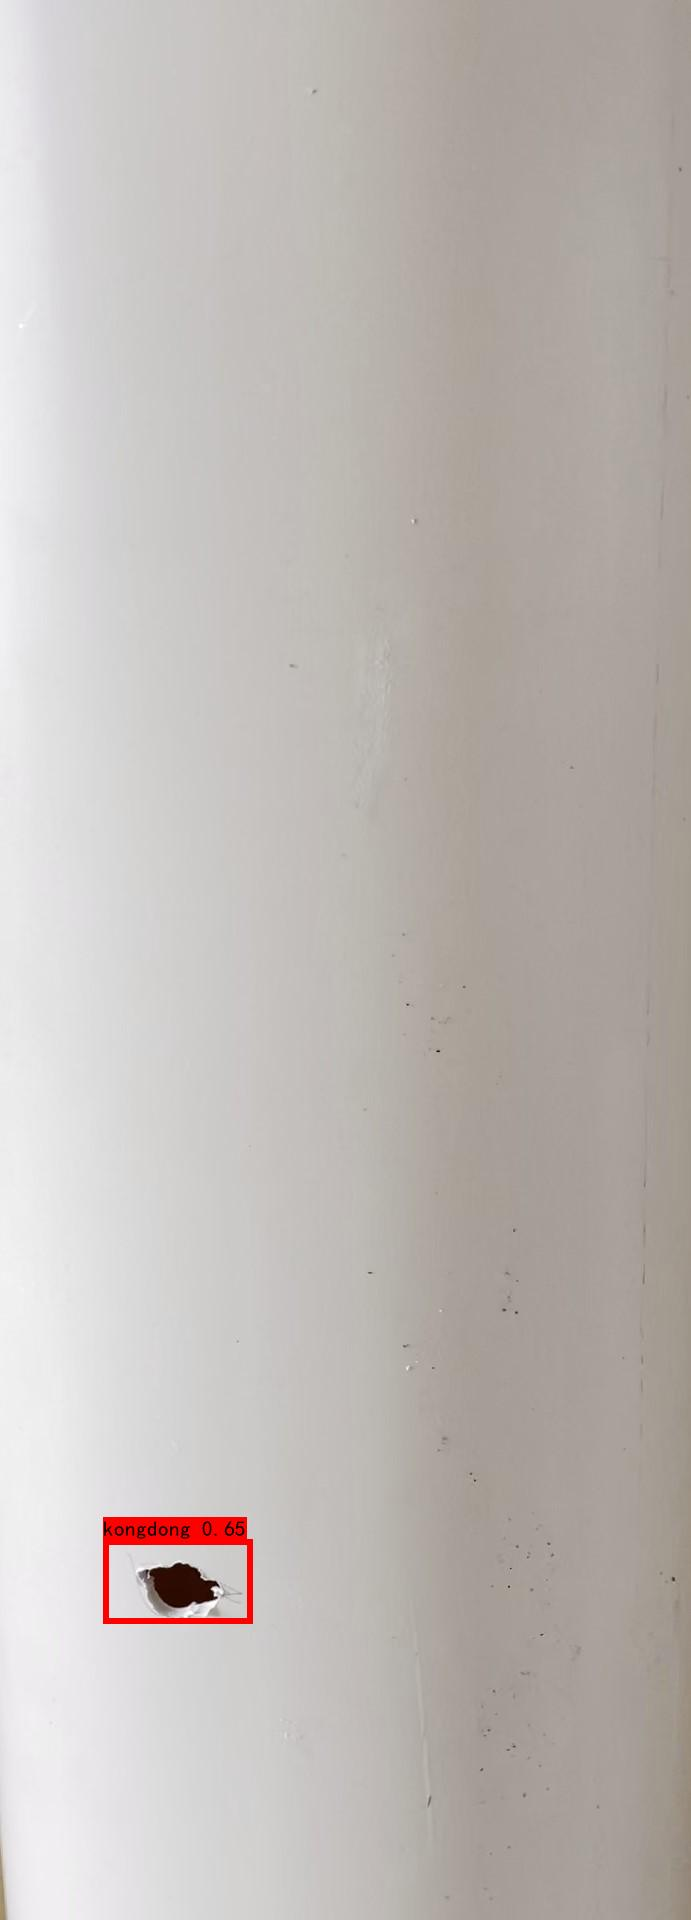kongdong: (131, 1556, 229, 1626)
